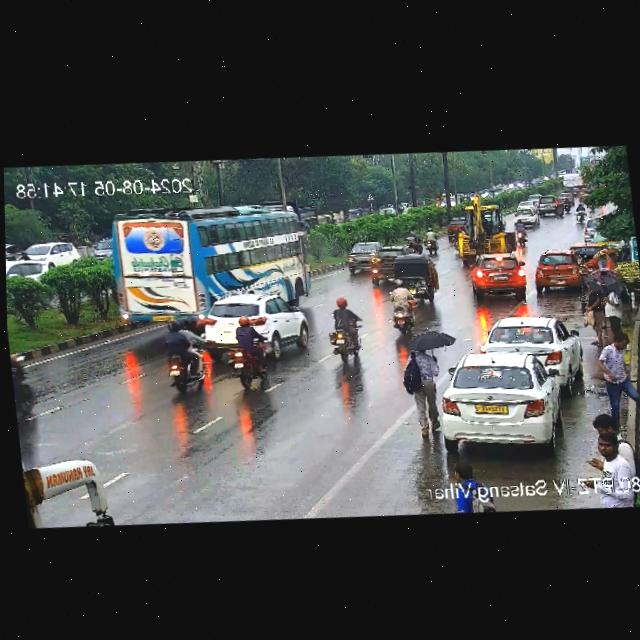bus: (104, 190, 313, 331), (22, 446, 117, 531)
car: (428, 345, 580, 458), (198, 286, 310, 361), (482, 309, 583, 382), (6, 235, 87, 285), (465, 251, 529, 304), (343, 238, 418, 275), (389, 250, 444, 300), (533, 250, 586, 292), (571, 236, 604, 266), (509, 205, 540, 227), (442, 213, 464, 243), (538, 195, 557, 216), (513, 197, 540, 211), (519, 193, 542, 207)
motorcycle: (153, 318, 212, 399), (223, 312, 273, 393), (323, 294, 374, 367), (9, 342, 29, 386), (510, 219, 529, 245), (423, 228, 438, 251), (573, 201, 589, 221), (557, 196, 570, 215)
person: (574, 408, 628, 477), (597, 327, 640, 413), (583, 282, 605, 344), (602, 287, 623, 334), (599, 247, 621, 265)
truck: (444, 199, 516, 264)
